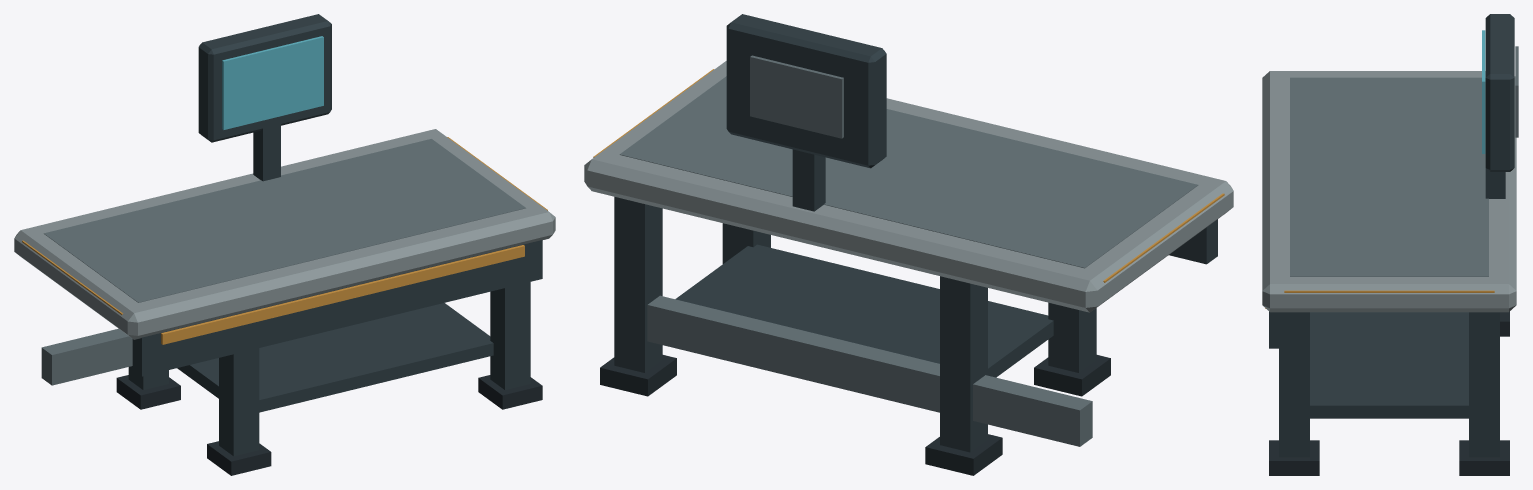
Rendered from packing_workbench.glb.
3 views of the same model, side by side, from view 1: azimuth 30°, elevation 25°; view 2: azimuth 150°, elevation 25°; view 3: azimuth 270°, elevation 25° (orthographic). The views are drawn at different scales.
Parts seen in each view (by area): view 1: PackingWorkbenchGeometry; view 2: PackingWorkbenchGeometry; view 3: PackingWorkbenchGeometry.
Part boxes in pixels (box(x1,y1,x2,y2)): PackingWorkbenchGeometry: box(14, 14, 555, 475); PackingWorkbenchGeometry: box(584, 14, 1233, 475); PackingWorkbenchGeometry: box(1262, 14, 1518, 475).
Bounding box in the file's own units: 2.35 × 1.73 × 1.16.
